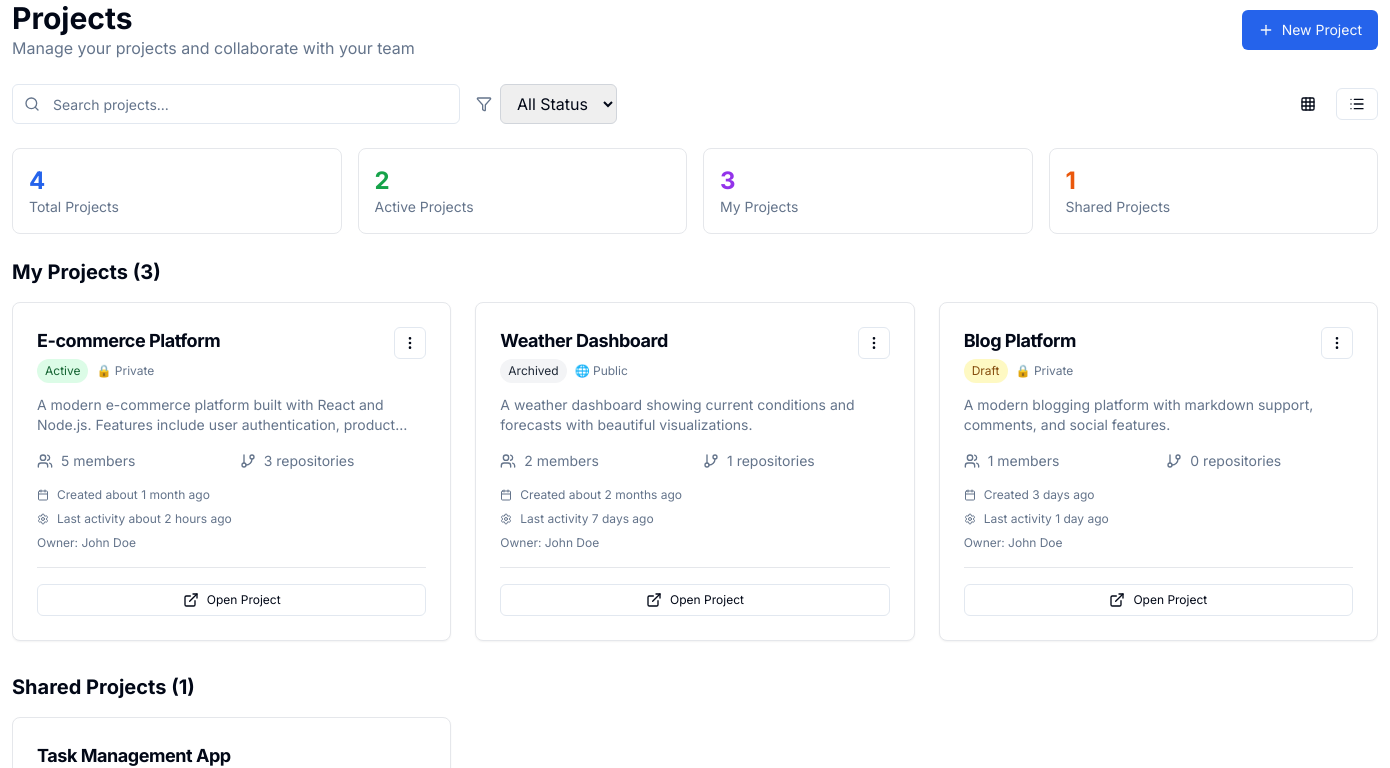
Scenario: Projects Page › should filter projects by status
The image size is (1390, 768).
Select "Active" in the dropdown showing "All Status": (558, 104) [500, 84, 617, 124]
(page scrolled)
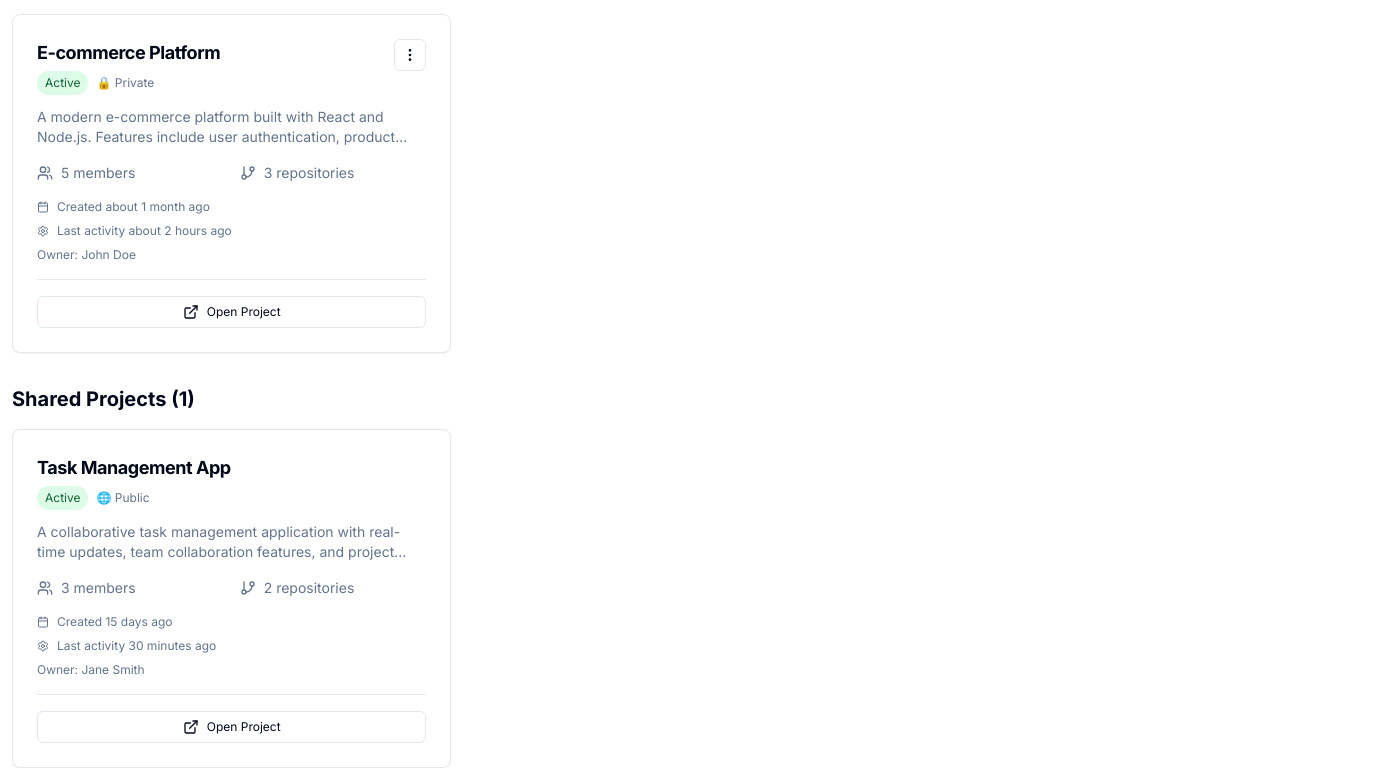
Expected: the heading "E-commerce Platform" is shown, [37, 42, 220, 63]
Result: the heading "Weather Dashboard" is gone
Result: the heading "Blog Platform" is gone
